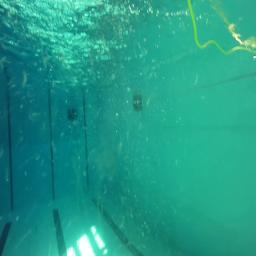Full: (132, 100, 144, 112), (67, 108, 79, 119), (133, 99, 143, 111), (68, 111, 78, 119)
